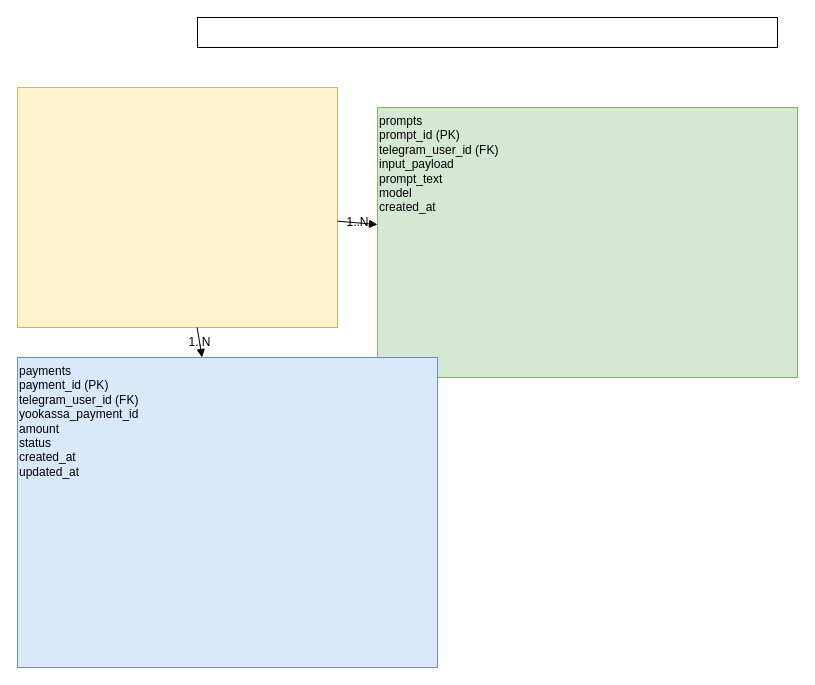
Some shapes in this 815 by 685 pixel diagram are drawn without their labels. Each missing label, with the centre of its shape:
"PromptMaster - ER Diagram (MVP)" goes at point (487, 32).
"users telegram_user_id (PK) name/locale access_level created_at updated_at" goes at point (177, 207).
